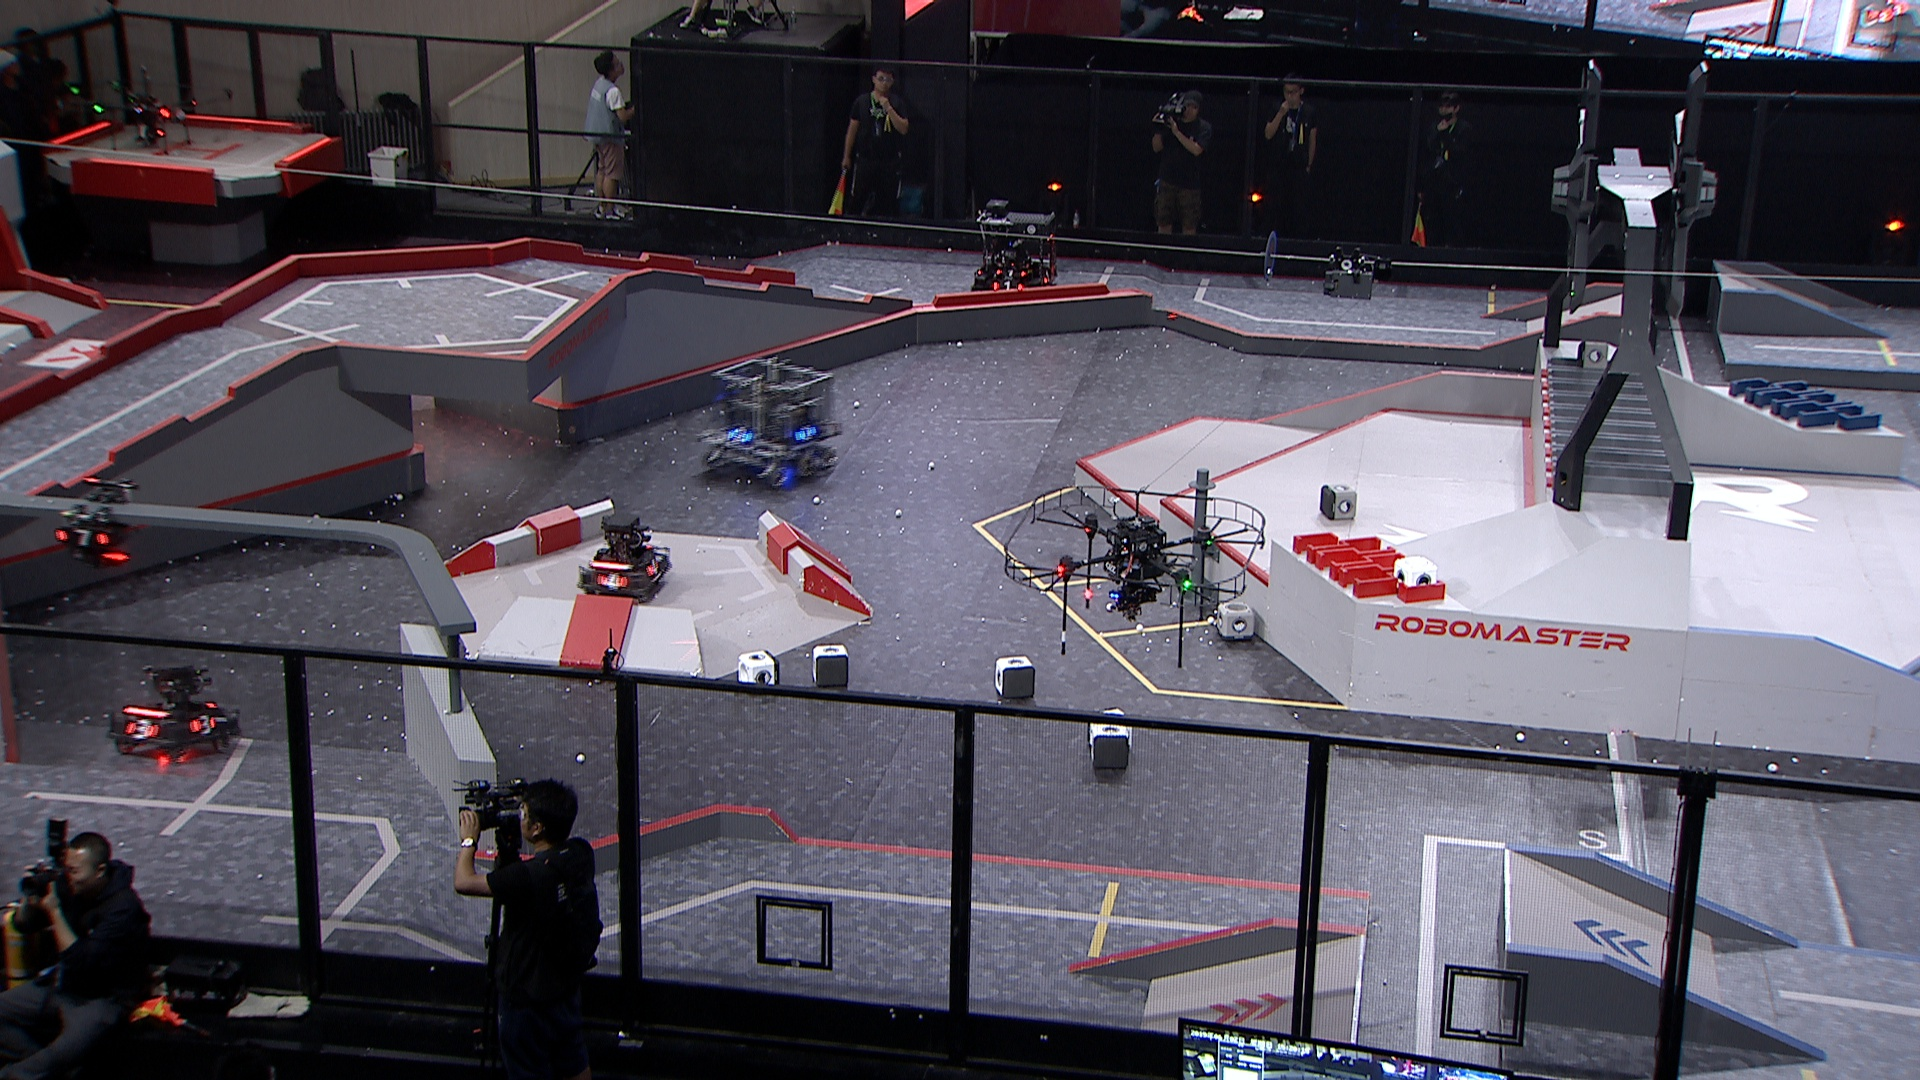armor: (57, 524, 109, 551), (124, 719, 160, 742), (593, 572, 629, 589), (187, 716, 219, 735), (728, 427, 754, 446), (795, 423, 818, 443), (996, 266, 1027, 280), (992, 281, 1025, 291), (644, 559, 662, 578), (1040, 270, 1054, 285)
car: (699, 356, 844, 489), (102, 662, 243, 764), (576, 513, 673, 603), (972, 200, 1060, 297)
watcher: (55, 476, 141, 570)
